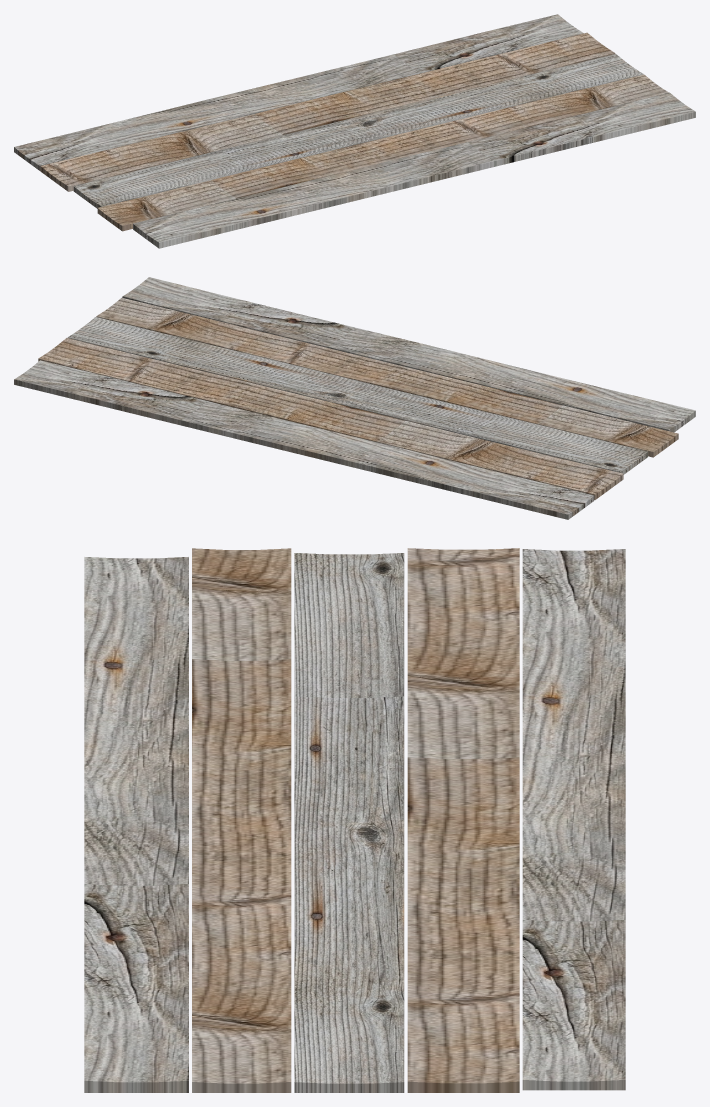
The model's file is roof-plank-gantry.glb.
The picture shows the model from 3 angles, top to bottom: view 1: azimuth 30°, elevation 25°; view 2: azimuth 150°, elevation 25°; view 3: azimuth 270°, elevation 25°; orthographic projection. The views are drawn at different scales.
Parts seen in each view (by area): view 1: roof-plank-gantry; view 2: roof-plank-gantry; view 3: roof-plank-gantry.
Part boxes in pixels (box(x1,y1,x2,y2)): roof-plank-gantry: box(14, 14, 695, 248); roof-plank-gantry: box(14, 277, 695, 519); roof-plank-gantry: box(84, 548, 625, 1092).
Bounding box in the file's own units: 2.8 × 0.0296 × 1.2.
Materials: 1 (1 with a texture image).
